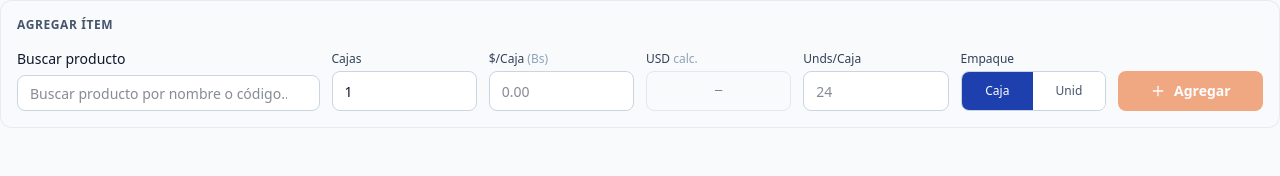
it: LineItemInputRow › Unit price helper text (=/und) — BS mode › shows correct USD unit cost when cost is entered in Bolívares (bug fix)
Type "15500" into the number field labelled "$/Caja (Bs)" at (561, 91), box [489, 71, 634, 111]
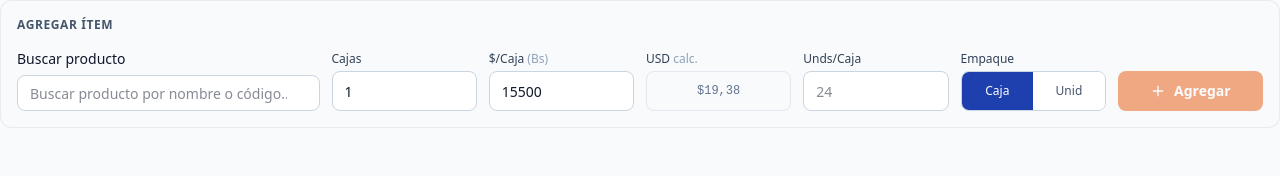
Type "36" into the number field labelled "Unds/Caja" at (876, 91), box [803, 71, 949, 111]
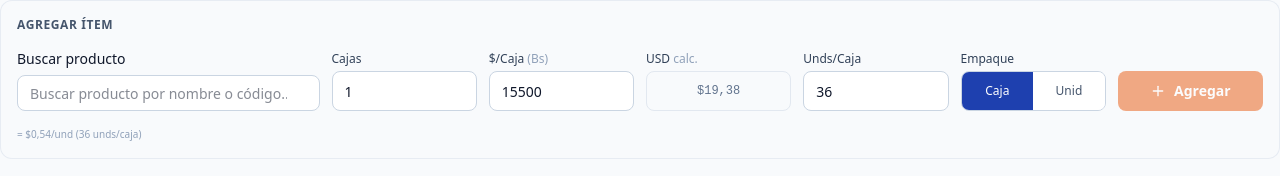
Result: the text "= $0,54/und (36 unds/caja)" is shown at [17, 127, 141, 141]
